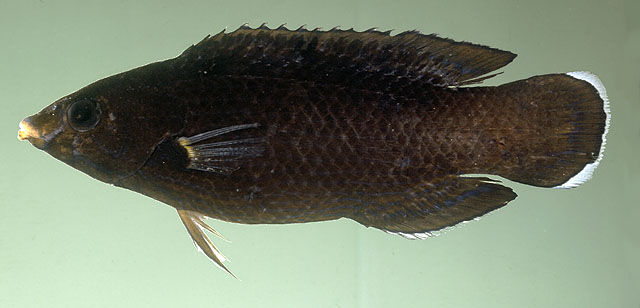fish: (16, 21, 610, 280)
